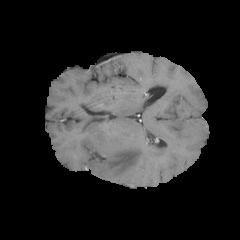glioma: (84, 132, 173, 179)
